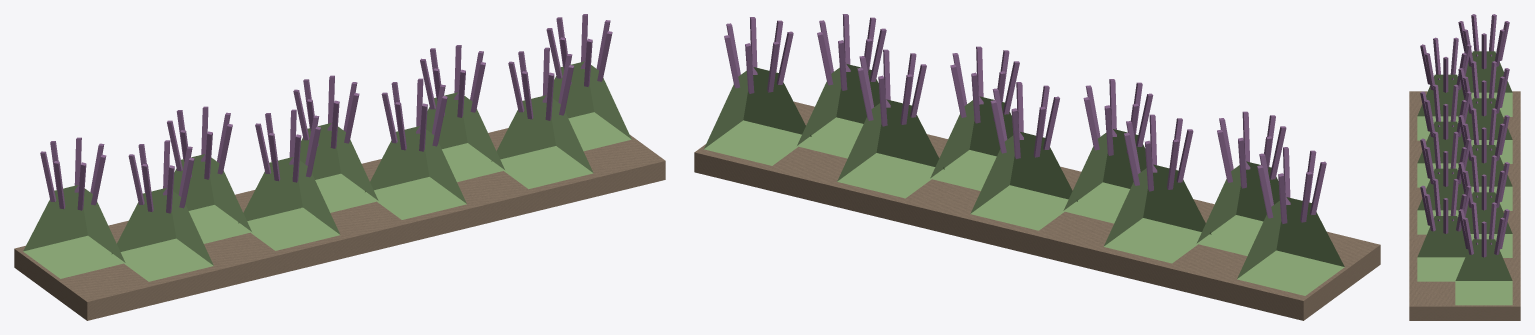
File: lavender-row.glb
3 renders of one model, left to right at view 1: azimuth 30°, elevation 25°; view 2: azimuth 150°, elevation 25°; view 3: azimuth 270°, elevation 25°, orthographic. The views are drawn at different scales.
Visible parts, largest first — view 1: lavender-row-leaf, lavender-row-soil, lavender-row-grape; view 2: lavender-row-leaf, lavender-row-soil, lavender-row-grape; view 3: lavender-row-leaf, lavender-row-grape, lavender-row-soil.
Boxes of the visible parts, left/top/right/bottom form: lavender-row-leaf: left=23, top=61, right=631, bottom=281; lavender-row-soil: left=14, top=128, right=665, bottom=320; lavender-row-grape: left=40, top=14, right=612, bottom=213; lavender-row-leaf: left=704, top=64, right=1344, bottom=295; lavender-row-soil: left=694, top=101, right=1380, bottom=320; lavender-row-grape: left=724, top=14, right=1326, bottom=223; lavender-row-leaf: left=1417, top=51, right=1512, bottom=305; lavender-row-grape: left=1420, top=14, right=1509, bottom=257; lavender-row-soil: left=1409, top=91, right=1520, bottom=320.
Bounding box in the file's own units: 3.2 × 0.663 × 0.7.
Materials: 3 (1 with a texture image).
